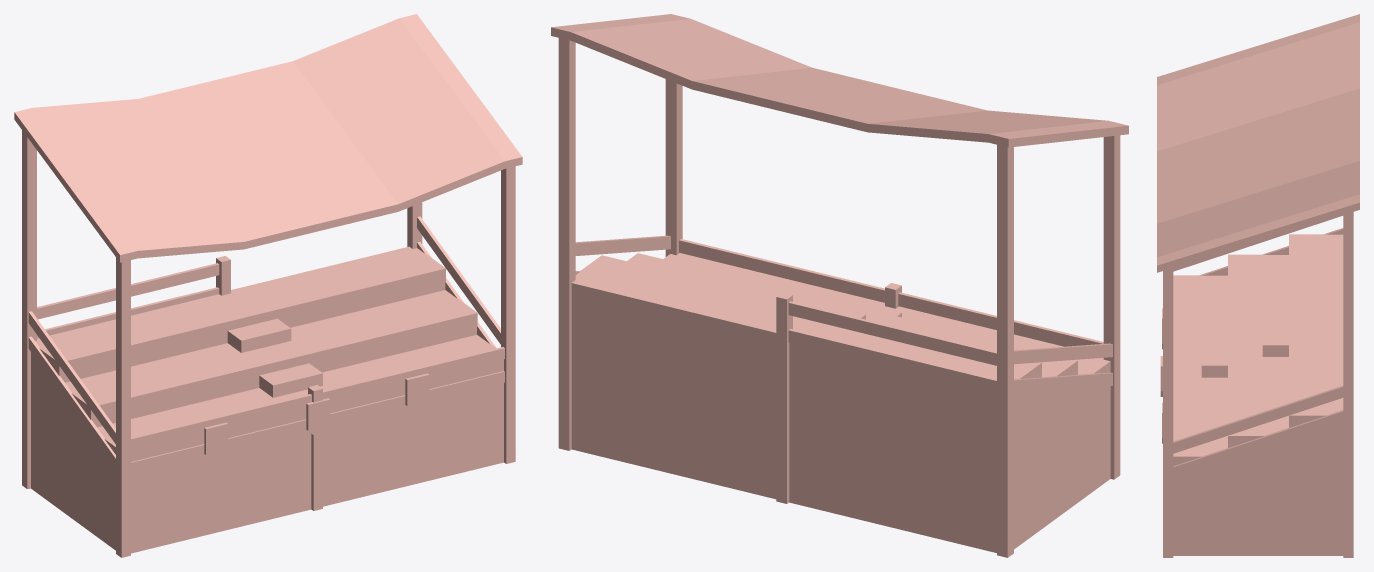
The model's file is Mega_Asset_s_Pack_Cube_319.FBX.
3 views of the same model, side by side, from view 1: azimuth 30°, elevation 25°; view 2: azimuth 150°, elevation 25°; view 3: azimuth 270°, elevation 25° (orthographic). The views are drawn at different scales.
Visible parts, largest first — view 1: Mega_Asset_s_Pack_Cube_319; view 2: Mega_Asset_s_Pack_Cube_319; view 3: Mega_Asset_s_Pack_Cube_319.
Part boxes in pixels (x1,y1,x2,y2): Mega_Asset_s_Pack_Cube_319: (14,14,522,557); Mega_Asset_s_Pack_Cube_319: (551,14,1128,557); Mega_Asset_s_Pack_Cube_319: (1157,14,1359,557).
Size of what is drawn, in the model's own units: 477 by 217 by 421.
